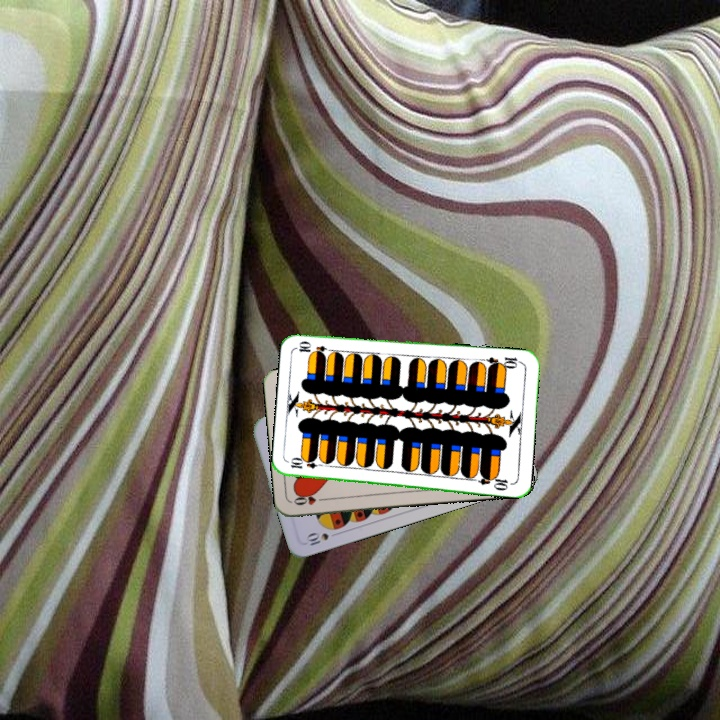E10: (483, 353, 524, 371), (287, 456, 327, 471)
HO: (290, 491, 330, 508)
S10: (302, 528, 342, 549)
